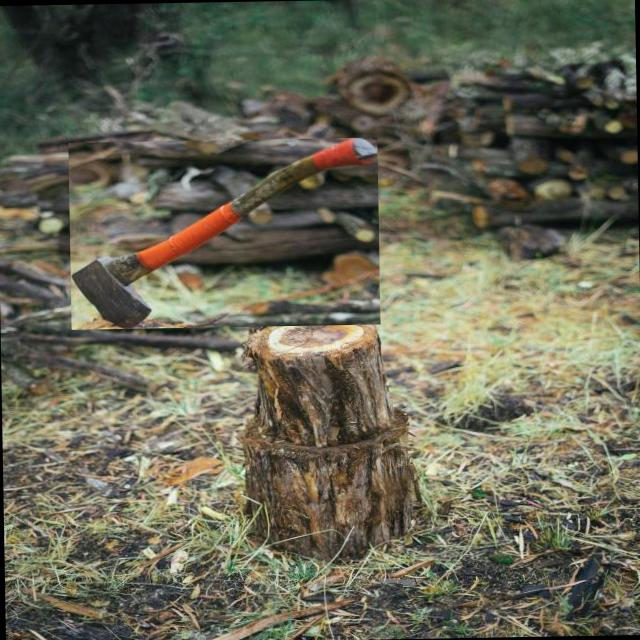Axe: (70, 137, 377, 328)
